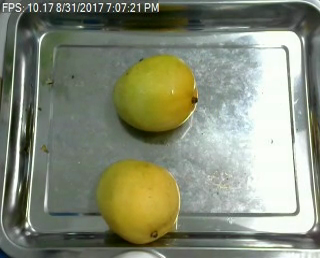Mango: (95, 159, 180, 243), (113, 57, 196, 129)
